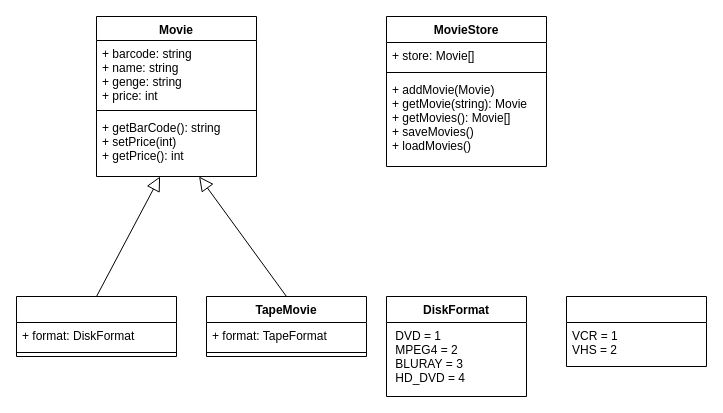
Some shapes in this 723 by 413 pixel diagram are drawn without their labels. Here are the shapes that lost their labels. From the top down, the box of each, then its label:
(16, 296, 176, 356): DiskMovie
(566, 296, 706, 366): TapeFormat
